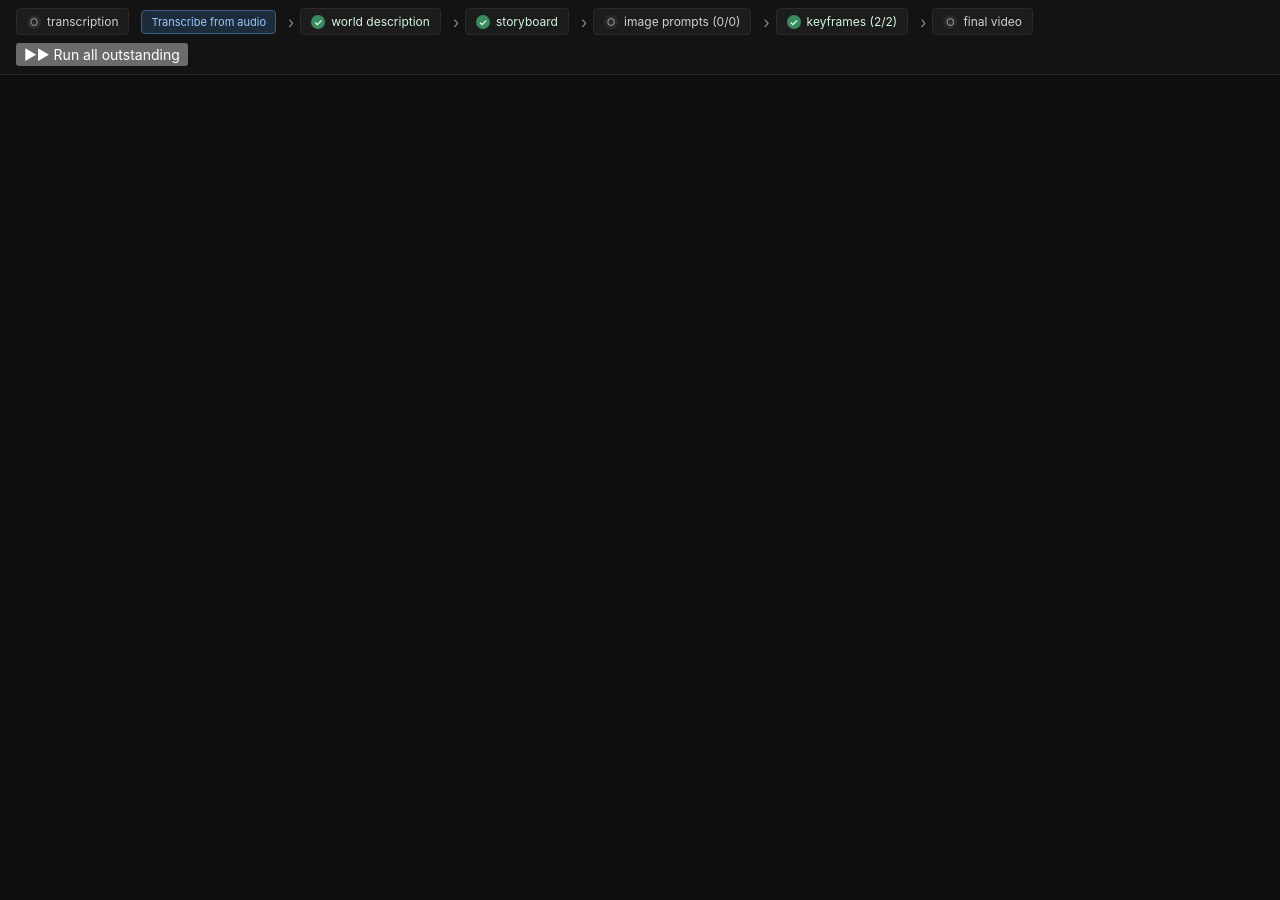
Test: PipelinePanel › Story 14: clicking Transcribe-from-audio opens the first-run confirm modal
The width and height of the screenshot is (1280, 900).
Click the button "Transcribe from audio": (209, 22) top-left (142, 10), bottom-right (276, 34)
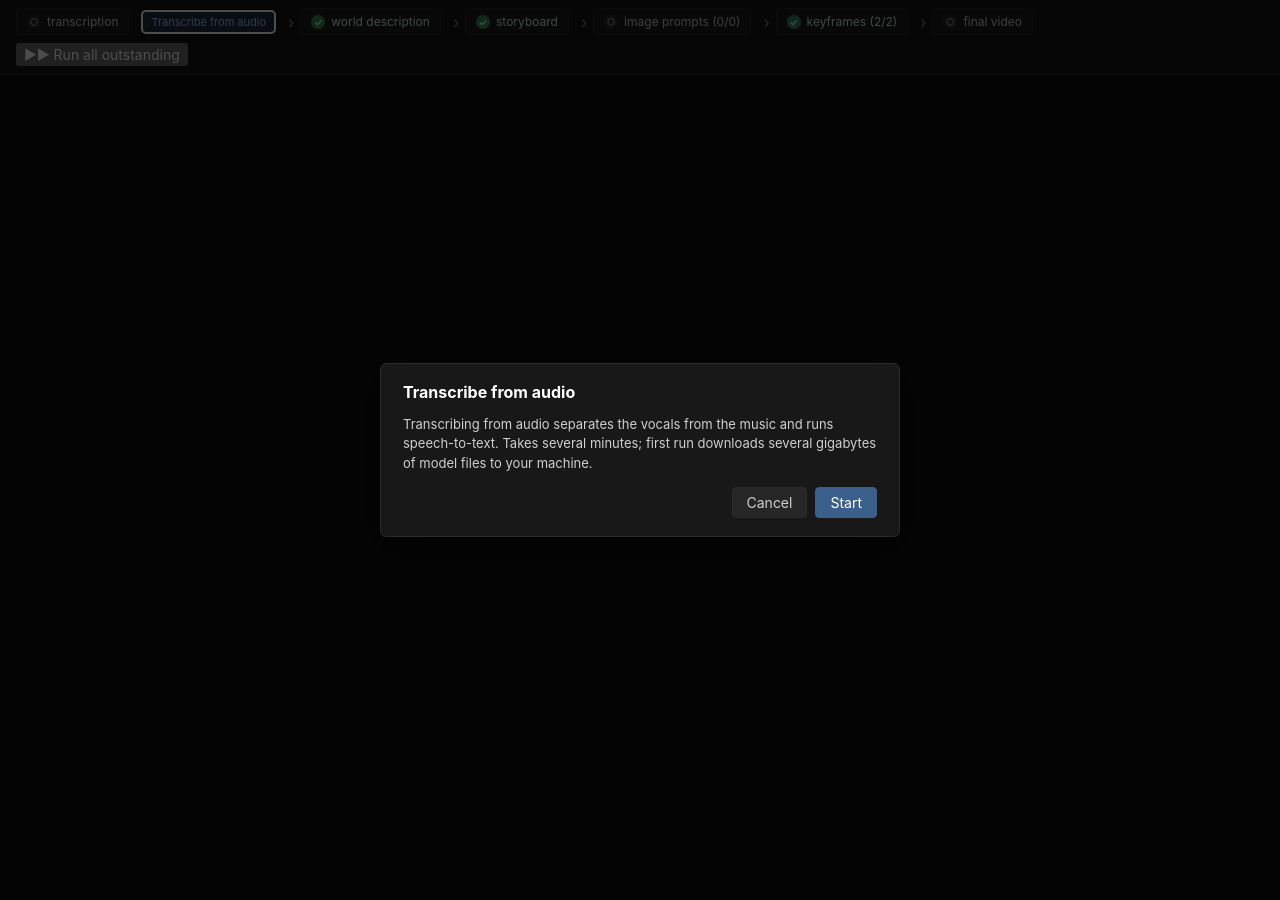
Check: the heading "Transcribe from audio" is shown, box top-left (403, 382), bottom-right (575, 402)
Check: the text "separates the vocals" is shown, box top-left (403, 416), bottom-right (876, 471)
Check: the button "Start" is shown, box top-left (815, 487), bottom-right (877, 518)
